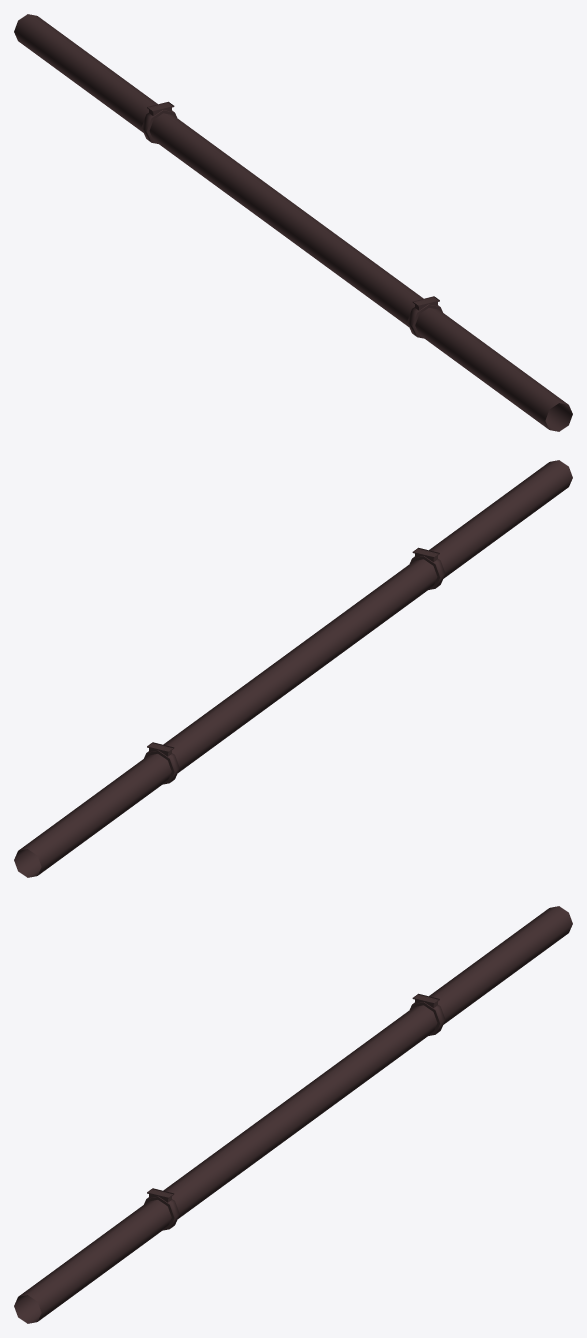
Rendered from SW_ENV_PipeStraight_05m.fbx.
The picture shows the model from 3 angles, top to bottom: view 1: azimuth 30°, elevation 25°; view 2: azimuth 150°, elevation 25°; view 3: azimuth 330°, elevation 25°; orthographic projection.
Parts seen in each view (by area): view 1: SW_ENV_PipeStraight_05m; view 2: SW_ENV_PipeStraight_05m; view 3: SW_ENV_PipeStraight_05m.
Boxes of the visible parts, bbox=[...] form: SW_ENV_PipeStraight_05m: bbox=[14, 14, 572, 431]; SW_ENV_PipeStraight_05m: bbox=[14, 460, 572, 877]; SW_ENV_PipeStraight_05m: bbox=[14, 906, 572, 1323].
Size of the model in its own units: 0.18 by 0.19 by 5.
